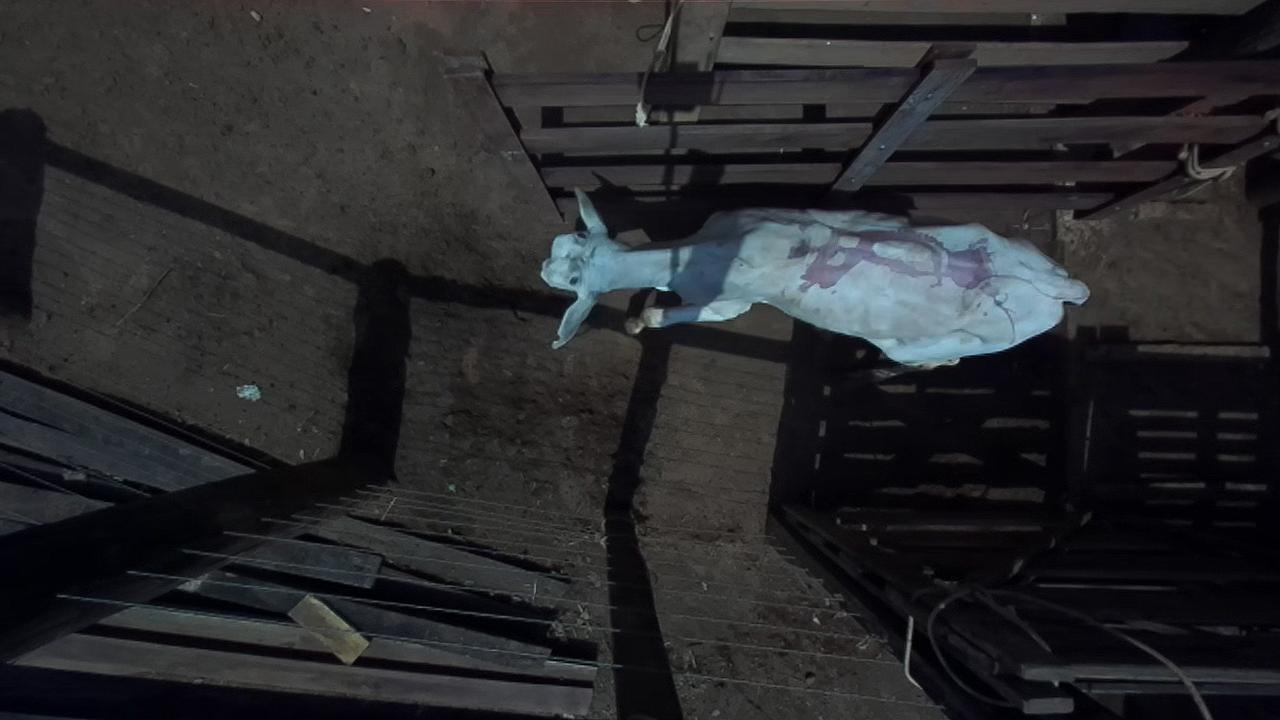cattle: (539, 182, 1091, 366)
